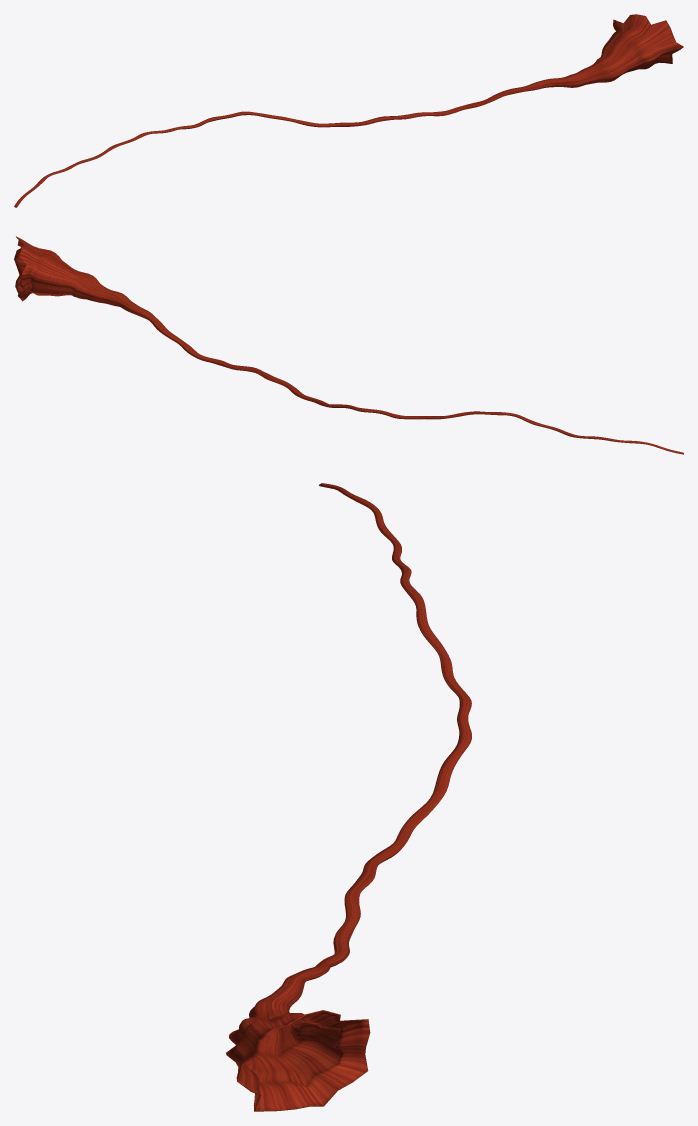
File: saffron-thread-web.glb
3 renders of one model, top to bottom at view 1: azimuth 30°, elevation 25°; view 2: azimuth 150°, elevation 25°; view 3: azimuth 270°, elevation 25°, orthographic. The views are drawn at different scales.
Parts seen in each view (by area): view 1: Hero Stigma; view 2: Hero Stigma; view 3: Hero Stigma.
Part boxes in pixels (<box>): Hero Stigma: <box>14,14,683,207</box>; Hero Stigma: <box>14,236,683,454</box>; Hero Stigma: <box>226,483,471,1111</box>.
Size of the model in its own units: 4.86 by 0.4188 by 0.7991.
Materials: 1 (1 with a texture image).
